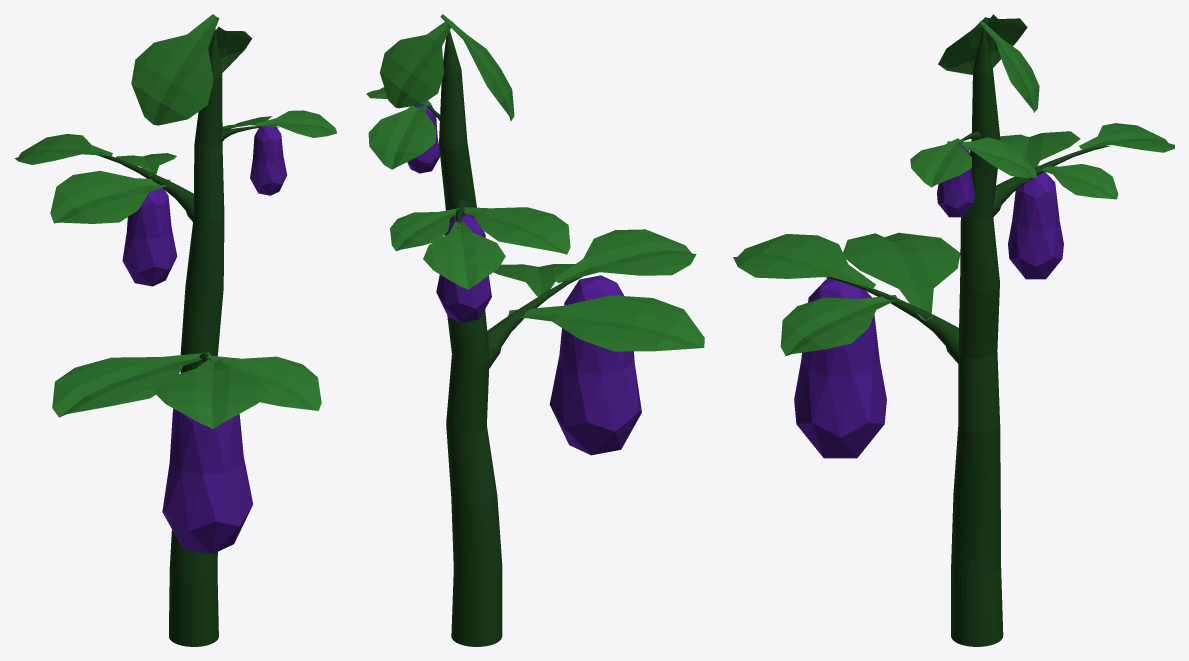
The model's file is Eggplant_2.fbx.
3 views of the same model, side by side, from view 1: azimuth 30°, elevation 25°; view 2: azimuth 150°, elevation 25°; view 3: azimuth 270°, elevation 25° (orthographic). The views are drawn at different scales.
Parts seen in each view (by area): view 1: Cylinder, Icosphere, Plane.006, Plane.001, Plane.004, Plane.008, Icosphere.001, Plane, Icosphere.002, Plane.002, Plane.007, Plane.005 (+2 smaller); view 2: Cylinder, Icosphere, Plane.001, Plane.004, Plane.005, Plane.002, Plane.008, Plane.009, Icosphere.001, Plane.003, Plane.006, Plane (+2 smaller); view 3: Cylinder, Icosphere, Plane.001, Icosphere.001, Plane.004, Plane, Plane.006, Plane.007, Plane.003, Plane.002, Plane.005, Plane.009 (+4 smaller).
Boxes of the visible parts, x1,y1,x2,y2 form: Cylinder: (169, 29, 224, 646); Icosphere: (162, 408, 253, 554); Plane.006: (131, 14, 219, 125); Plane.001: (52, 352, 214, 417); Plane.004: (154, 359, 269, 428); Plane.008: (50, 171, 170, 223); Icosphere.001: (122, 188, 177, 286); Plane: (207, 355, 321, 410); Icosphere.002: (250, 124, 287, 195); Plane.002: (15, 134, 112, 164); Plane.007: (256, 110, 336, 137); Plane.005: (208, 26, 252, 72); Cylinder: (439, 25, 502, 646); Icosphere: (549, 275, 641, 455); Plane.001: (507, 295, 704, 351); Plane.004: (555, 229, 696, 283); Plane.005: (380, 19, 453, 108); Plane.002: (423, 221, 505, 289); Plane.008: (463, 207, 570, 254); Plane.009: (368, 105, 436, 169); Icosphere.001: (436, 214, 491, 322); Plane.003: (390, 208, 462, 251); Plane.006: (440, 14, 514, 121); Plane: (493, 264, 575, 297); Cylinder: (951, 25, 1003, 646); Icosphere: (794, 278, 886, 458); Plane.001: (843, 232, 960, 320); Icosphere.001: (1008, 172, 1063, 279); Plane.004: (733, 234, 875, 289); Plane: (780, 295, 899, 355); Plane.006: (938, 14, 1027, 74); Plane.007: (910, 138, 972, 187); Plane.003: (1035, 164, 1118, 199); Plane.002: (1079, 123, 1174, 152); Plane.005: (979, 20, 1039, 112); Plane.009: (947, 137, 1036, 177).
Bounding box in the file's own units: 414 × 801 × 505.
